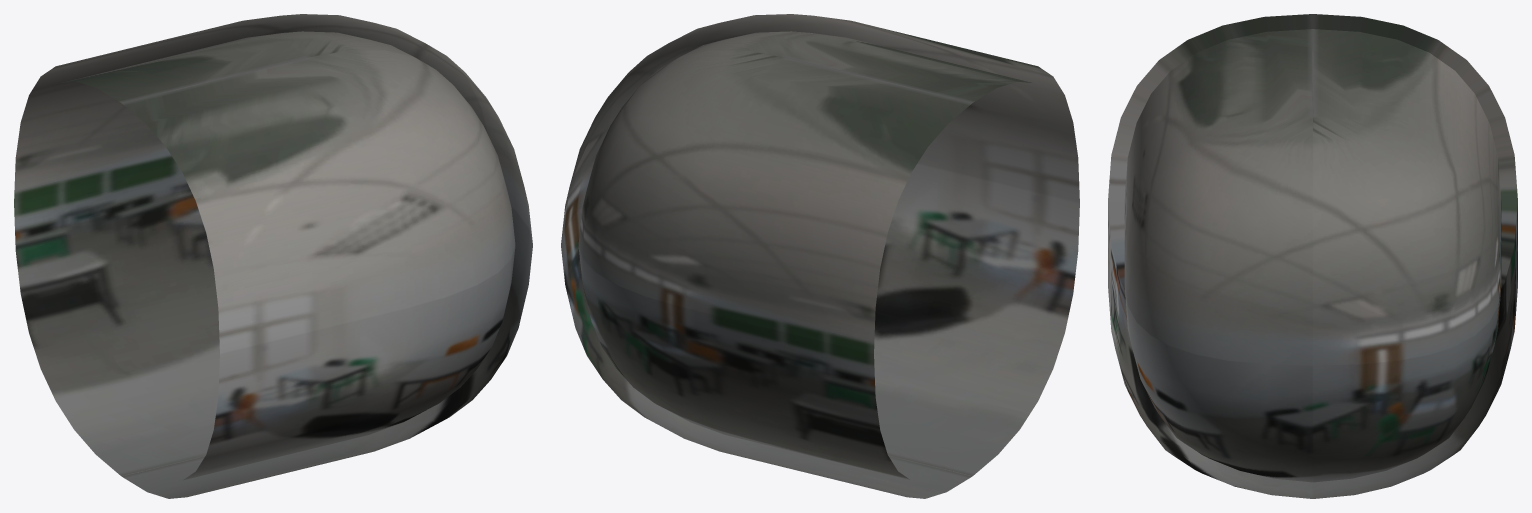
File: falsi-v1.glb
3 views of the same model, side by side, from view 1: azimuth 30°, elevation 25°; view 2: azimuth 150°, elevation 25°; view 3: azimuth 270°, elevation 25° (orthographic). The views are drawn at different scales.
Parts seen in each view (by area): view 1: Box105; view 2: Box105; view 3: Box105.
Boxes of the visible parts, x1,y1,x2,y2 form: Box105: (14, 14, 532, 498); Box105: (561, 14, 1079, 498); Box105: (1108, 14, 1517, 498).
Size of the model in its own units: 2.3 by 2.3 by 2.3.
1 material, 1 textured.
